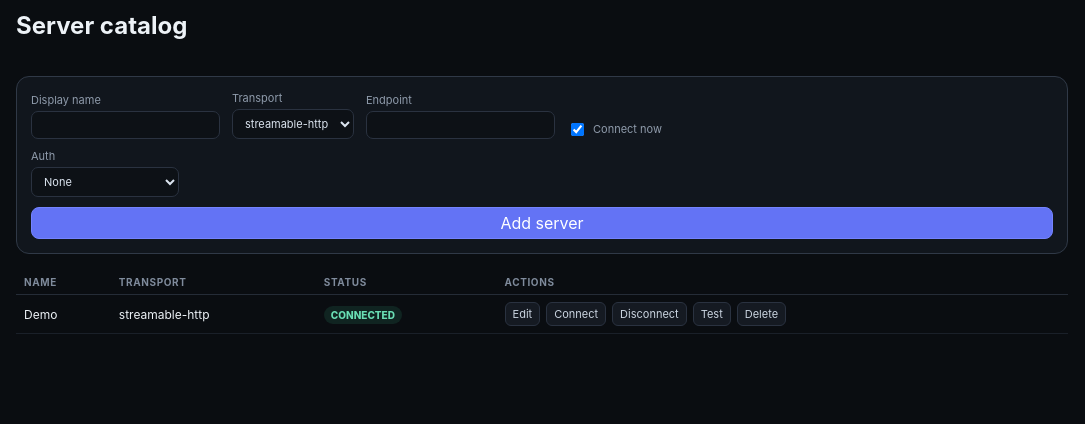
Test case: Server edit mode › switching auth kind without entering a value surfaces a validation error, not a silent no-op
Click the button "Edit". click: (522, 314)
box: left=504, top=302, right=540, bottom=326
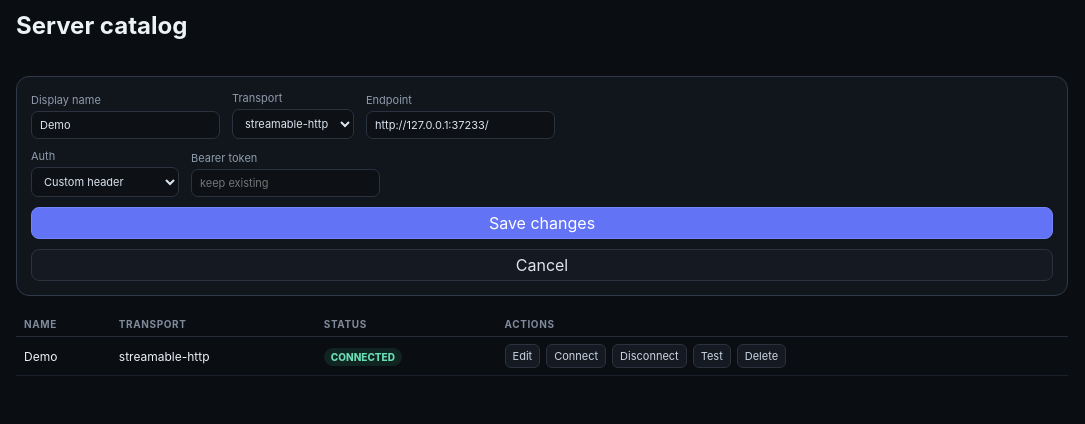
Select "Custom header" in the dropdown with test id "auth-kind". click: (105, 182)
box: left=31, top=167, right=179, bottom=197
Select "Custom header" in the dropdown with test id "auth-kind". click: (105, 182)
box: left=31, top=167, right=179, bottom=197
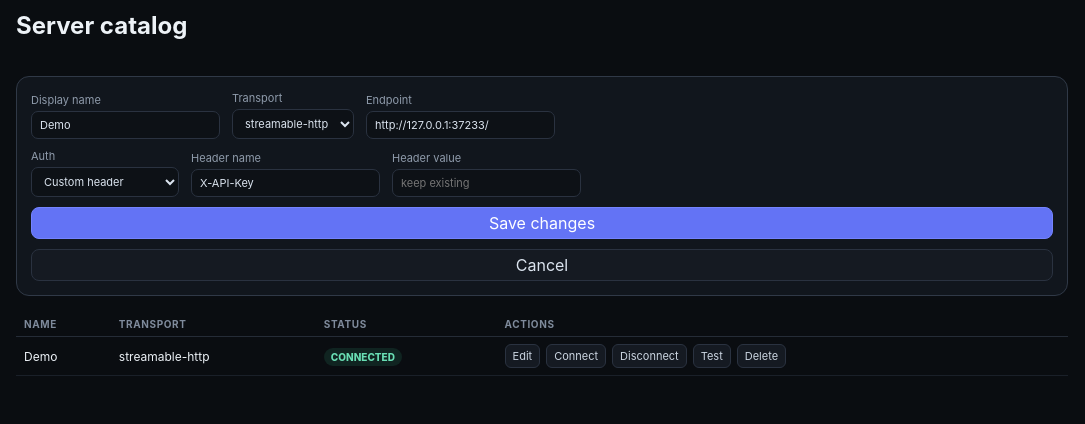
Submit the form, box left=16, top=76, right=1068, bottom=296
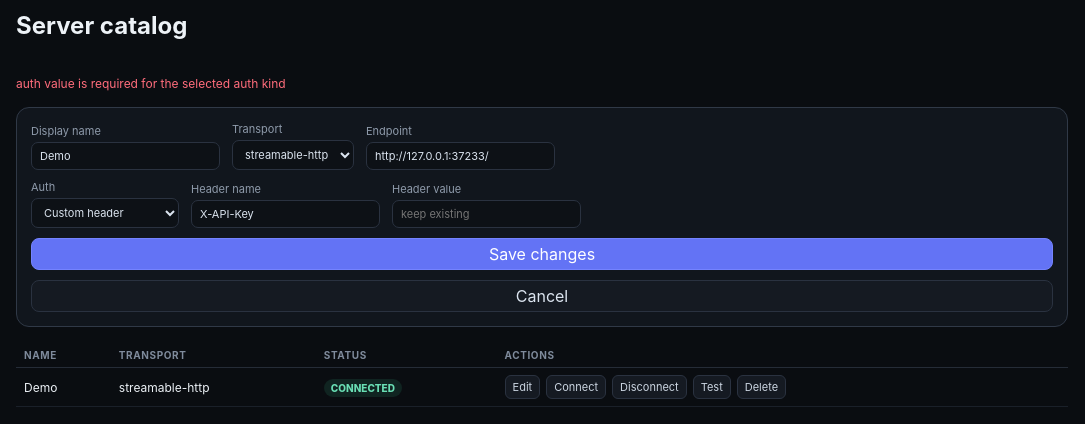
Now the text "auth value is required" is shown, box left=16, top=76, right=286, bottom=91
